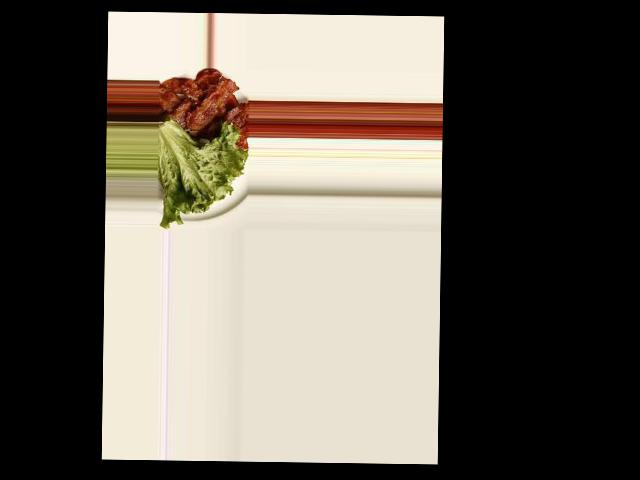lettuce: (162, 96, 227, 218)
